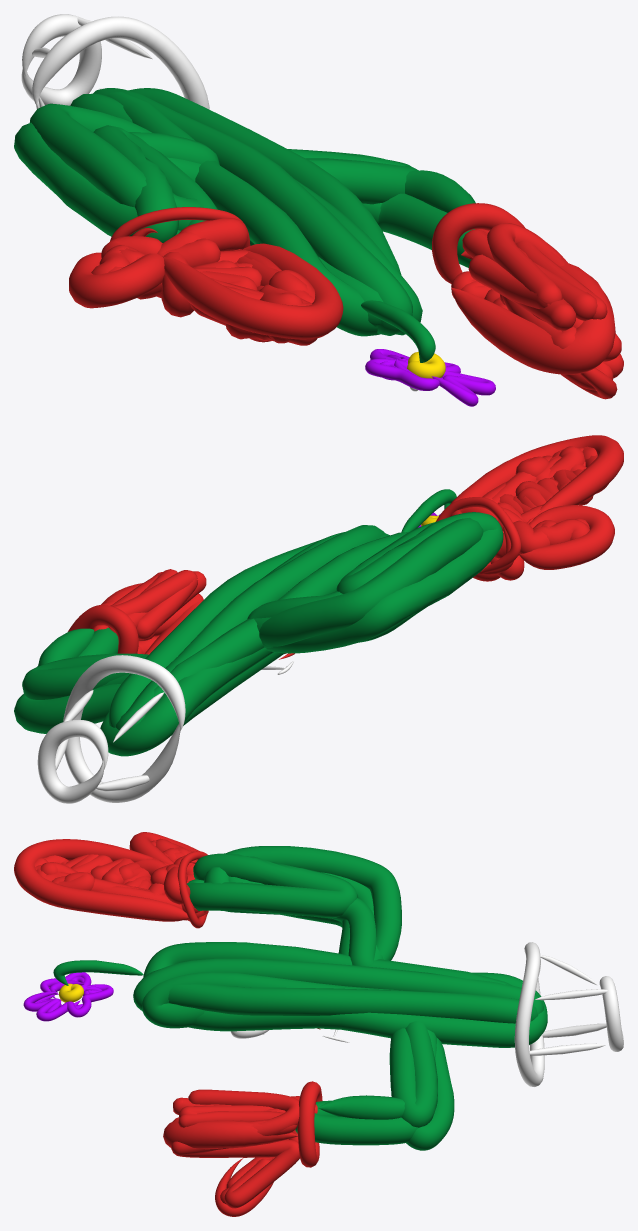
The model's file is boxcactus.glb.
The picture shows the model from 3 angles, top to bottom: view 1: azimuth 30°, elevation 25°; view 2: azimuth 150°, elevation 25°; view 3: azimuth 270°, elevation 25°; orthographic projection. The views are drawn at different scales.
Visible parts, largest first — view 1: boxcactus; view 2: boxcactus; view 3: boxcactus.
Part boxes in pixels (x1,y1,x2,y2): boxcactus: [14, 14, 623, 406]; boxcactus: [14, 435, 623, 803]; boxcactus: [14, 832, 623, 1216].
Size of the model in its own units: 0.7951 by 0.4228 by 1.06.
1 material, 1 textured.
